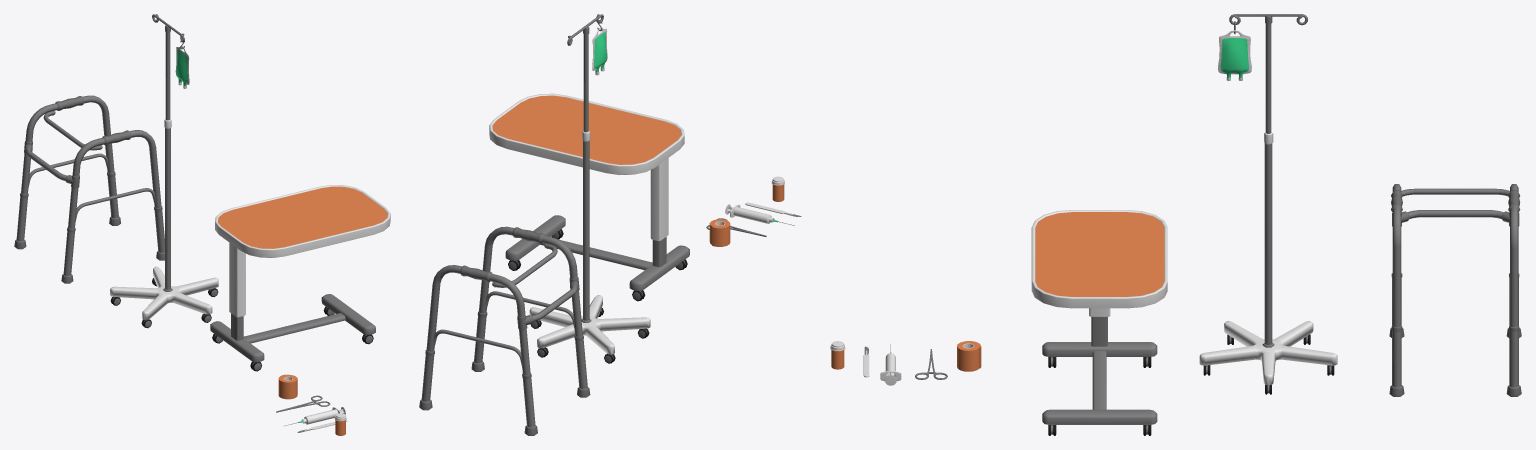
The model's file is GroKit_MedicalAssets_Pack01.fbx.
3 renders of one model, left to right at view 1: azimuth 30°, elevation 25°; view 2: azimuth 150°, elevation 25°; view 3: azimuth 270°, elevation 25°, orthographic. The views are drawn at different scales.
Parts seen in each view (by area): view 1: BedsideTable_Top, Walker, IV_Pole, BedsideTable, IV_Pole_Top, Bag, Bandage; view 2: BedsideTable_Top, Walker, IV_Pole, BedsideTable, IV_Pole_Top, Bag, Bandage, Syringe; view 3: BedsideTable_Top, Walker, IV_Pole, BedsideTable, Bag, IV_Pole_Top, Bandage.
Boxes of the visible parts, x1=… form: BedsideTable_Top: x1=215, y1=185, x2=390, y2=317; Walker: x1=14, y1=95, x2=164, y2=283; IV_Pole: x1=110, y1=119, x2=218, y2=320; BedsideTable: x1=210, y1=294, x2=375, y2=362; IV_Pole_Top: x1=152, y1=14, x2=184, y2=120; Bag: x1=175, y1=46, x2=189, y2=88; Bandage: x1=278, y1=374, x2=297, y2=399; BedsideTable_Top: x1=489, y1=93, x2=684, y2=240; Walker: x1=419, y1=226, x2=590, y2=435; IV_Pole: x1=529, y1=131, x2=650, y2=354; BedsideTable: x1=505, y1=215, x2=689, y2=291; IV_Pole_Top: x1=567, y1=14, x2=603, y2=132; Bag: x1=592, y1=28, x2=607, y2=75; Bandage: x1=709, y1=219, x2=730, y2=246; Syringe: x1=730, y1=204, x2=774, y2=223; BedsideTable_Top: x1=1031, y1=210, x2=1167, y2=316; Walker: x1=1389, y1=184, x2=1521, y2=396; IV_Pole: x1=1199, y1=132, x2=1337, y2=385; BedsideTable: x1=1042, y1=317, x2=1157, y2=424; Bag: x1=1218, y1=30, x2=1251, y2=80; IV_Pole_Top: x1=1229, y1=14, x2=1307, y2=133; Bandage: x1=957, y1=341, x2=981, y2=371.
Bounding box in the file's own units: 121 × 171 × 300.
